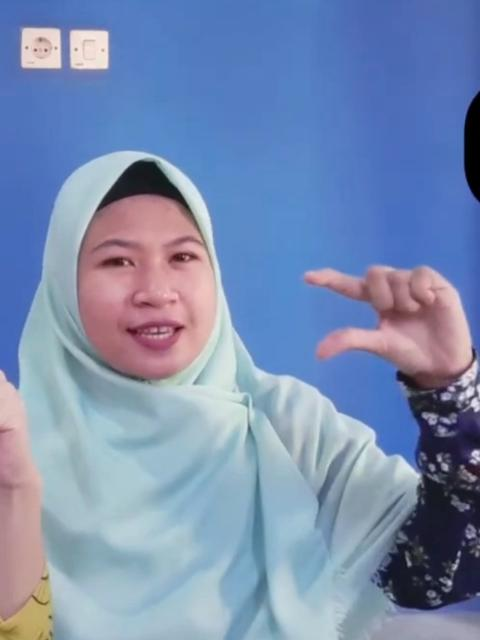G: (302, 264, 474, 382)
